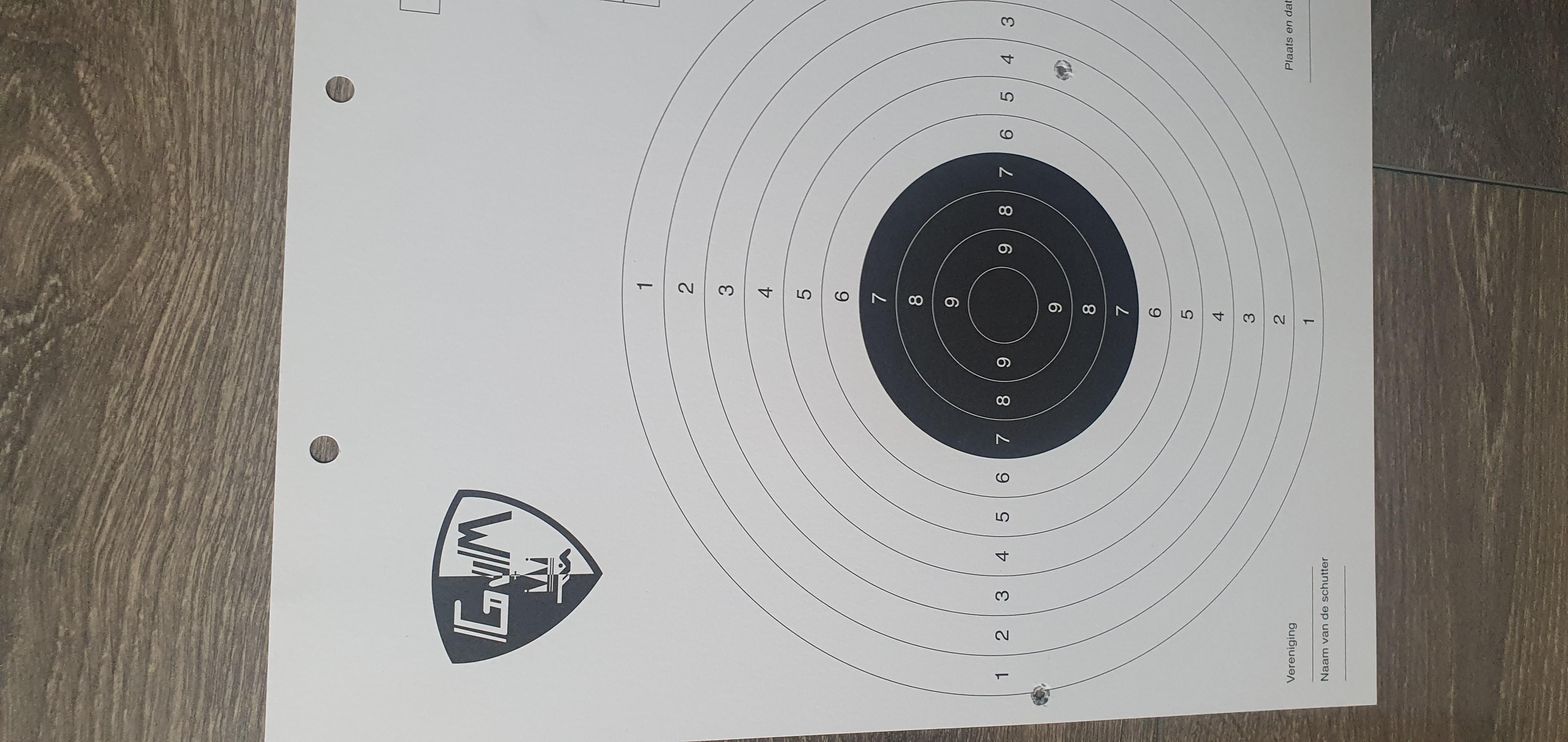hole: (1438, 243, 1495, 255), (122, 233, 174, 244)
